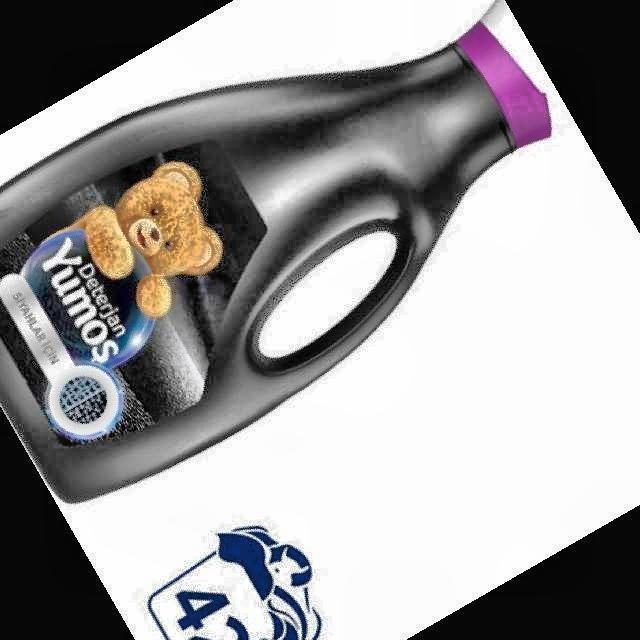plastic: (0, 2, 550, 502)
